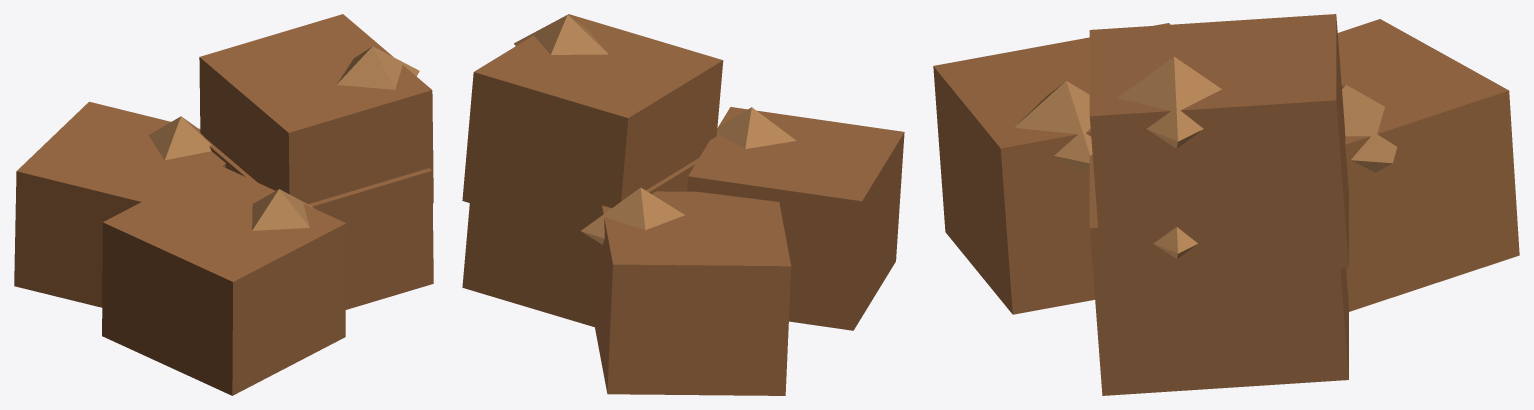
The model's file is pile-soil-4.gltf.
3 renders of one model, left to right at view 1: azimuth 30°, elevation 25°; view 2: azimuth 150°, elevation 25°; view 3: azimuth 270°, elevation 25°, orthographic. The views are drawn at different scales.
Parts seen in each view (by area): view 1: pile-soil-4; view 2: pile-soil-4; view 3: pile-soil-4.
Part boxes in pixels (x1,y1,x2,y2): pile-soil-4: (14, 14, 433, 395); pile-soil-4: (462, 14, 904, 395); pile-soil-4: (933, 14, 1519, 395).
Size of the model in its own units: 0.6436 by 0.4374 by 0.7118.
